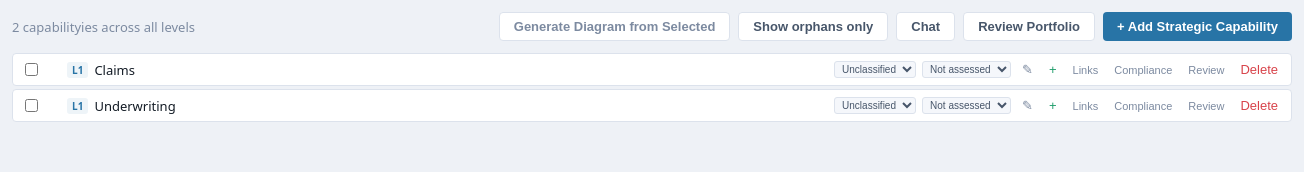
Test case: CapabilityTree: selection count and clear (920-capability-diagram-select US2) › shows a count reflecting the number of checked capabilities
What coordinates should you click on to do the following:
click the checkbox named "Select for Generate Diagram from Selected" in the row of "Claims"
I would click on:
 (32, 70)
Its box is [25,63,38,76].
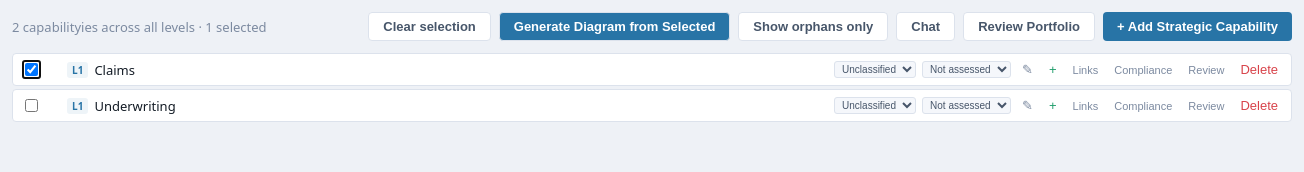
What coordinates should you click on to do the following:
click the checkbox named "Select for Generate Diagram from Selected" in the row of "Underwriting"
I would click on:
 (32, 106)
Its box is [25,99,38,112].
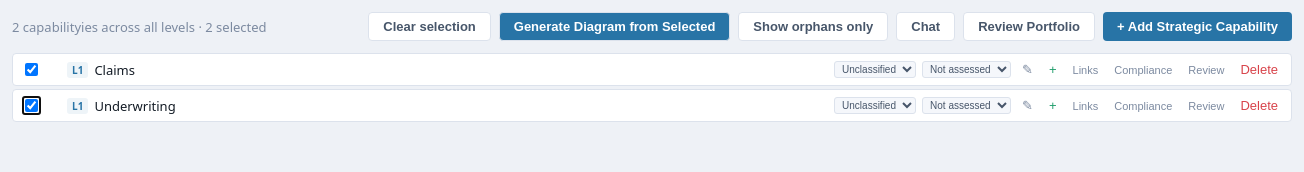
expect the text "2 selected" is shown: met, box [12,18,267,36]
